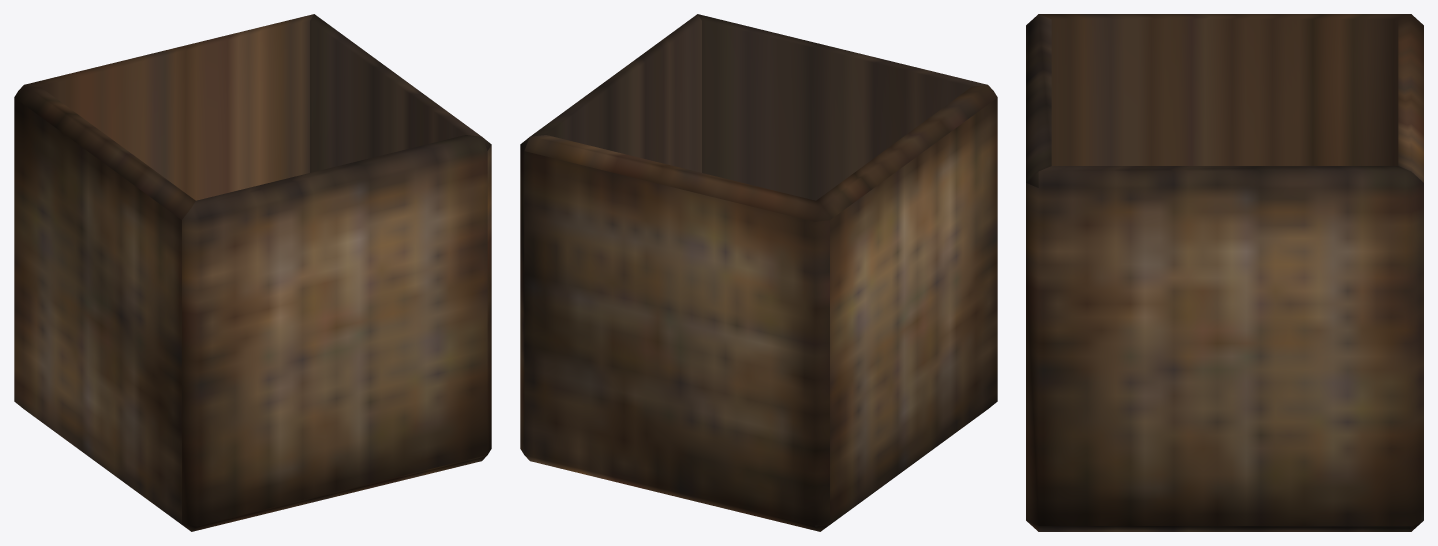
File: boxempty.fbx
3 views of the same model, side by side, from view 1: azimuth 30°, elevation 25°; view 2: azimuth 150°, elevation 25°; view 3: azimuth 270°, elevation 25° (orthographic). The views are drawn at different scales.
Visible parts, largest first — view 1: boxpack; view 2: boxpack; view 3: boxpack.
Part boxes in pixels (left/top/right/bottom): boxpack: left=14, top=14, right=491, bottom=531; boxpack: left=520, top=14, right=997, bottom=531; boxpack: left=1026, top=14, right=1423, bottom=531.
Size of the model in its own units: 76.26 by 76.26 by 76.26.
